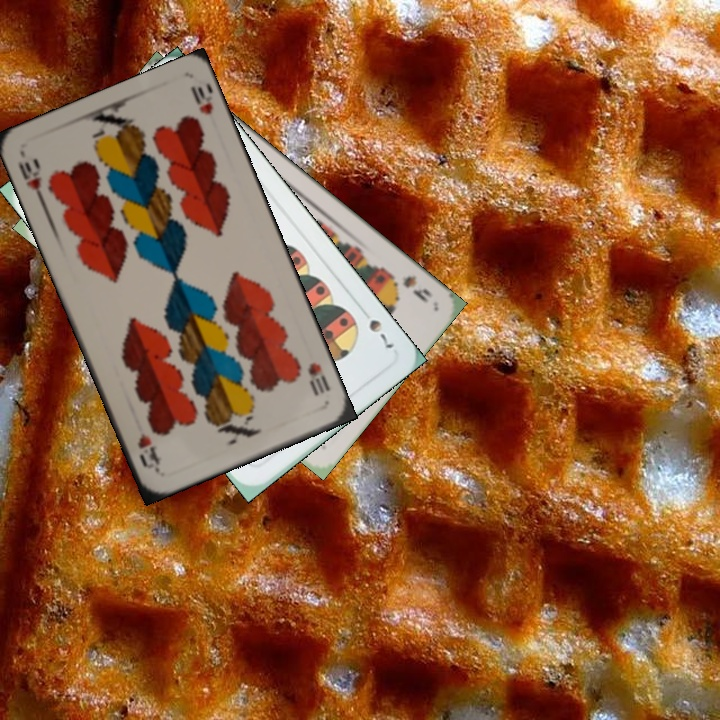H10: (14, 154, 48, 206), (304, 358, 333, 399)
S7: (365, 315, 397, 354)
S9: (383, 267, 435, 305)
